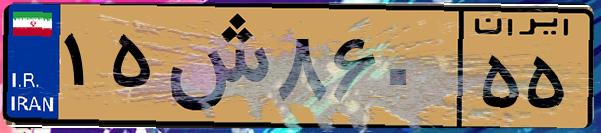0: (385, 28, 445, 110)
1: (57, 26, 110, 100)
5: (475, 38, 525, 113), (525, 38, 570, 115), (110, 28, 158, 98)
6: (330, 28, 385, 110)
8: (270, 28, 330, 110)
ش: (158, 12, 270, 120)
